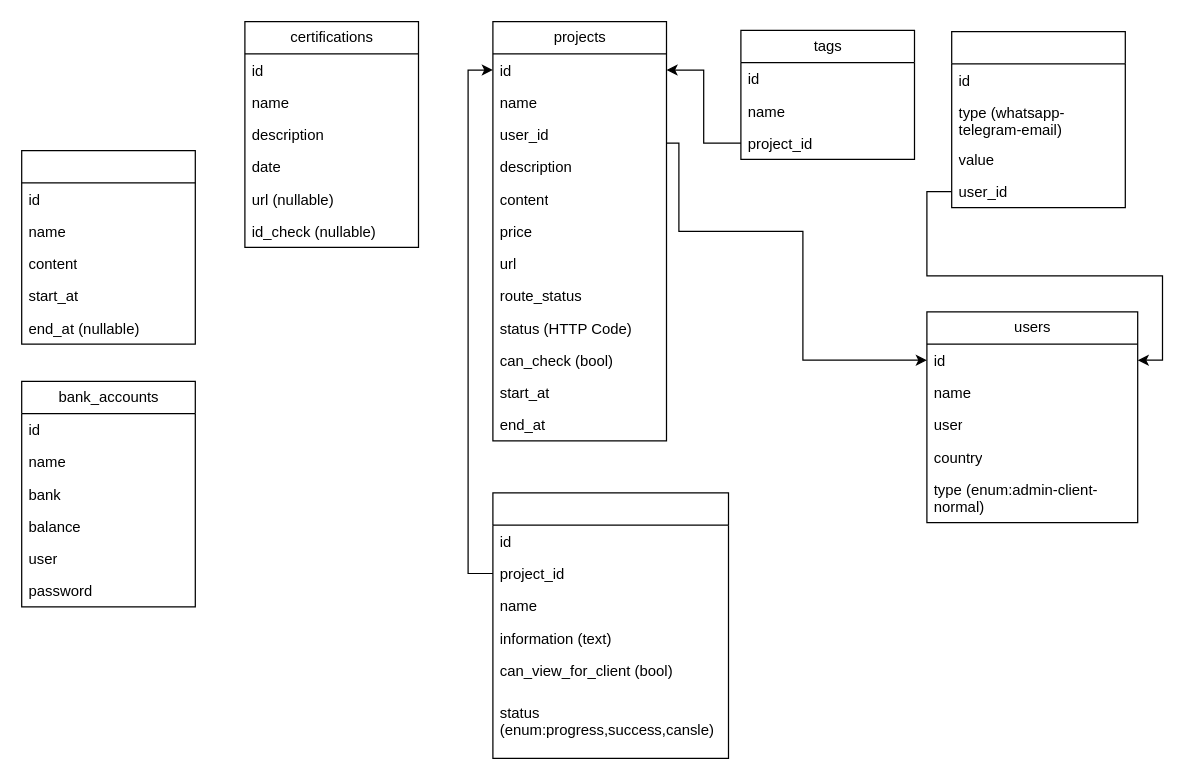
This 1194x784 diagram has some shape labels left out. Here are the shapes that lost their labels. From the top down, the box of each, then its label:
(950, 30, 1125, 208): contact_informations
(20, 149, 195, 344): experiences
(492, 492, 728, 758): tasks
